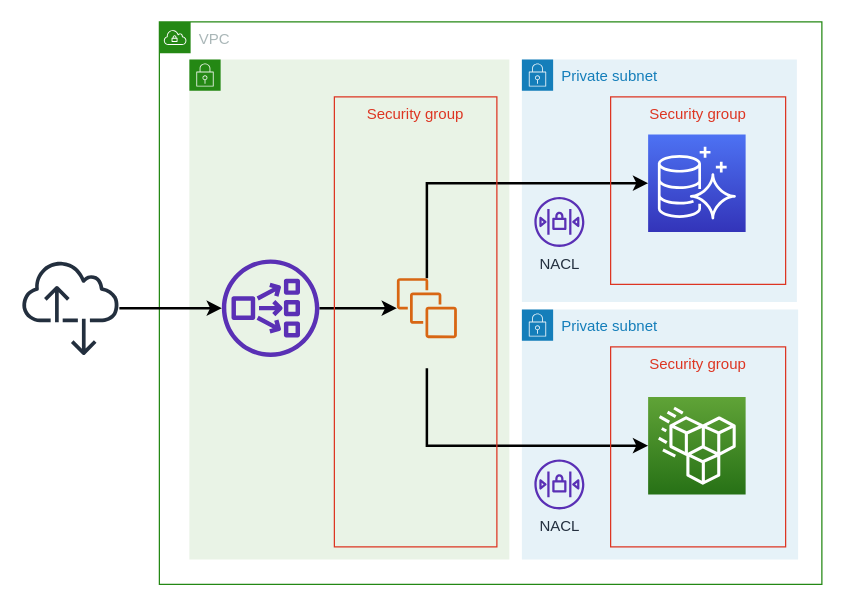
The diagram is 844 pixels wide and 606 high, and some of its shapes have lost their labels. Here are the shapes that lost their labels. From the top down, the box of each, then its label:
(647, 133, 746, 232): Database Cluster
(188, 58, 509, 559): Public subnet
(396, 278, 456, 338): Security Servers
(647, 396, 746, 494): Elastic File System
